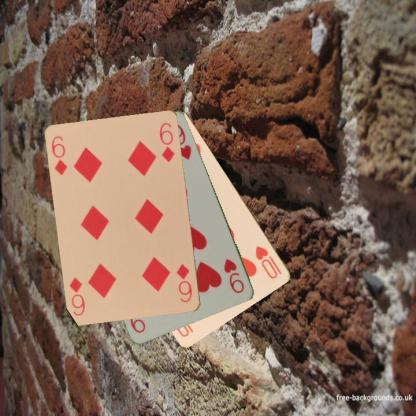10h: (253, 242, 283, 280)
6d: (49, 133, 69, 177), (174, 261, 193, 304)
9h: (221, 255, 246, 295)
